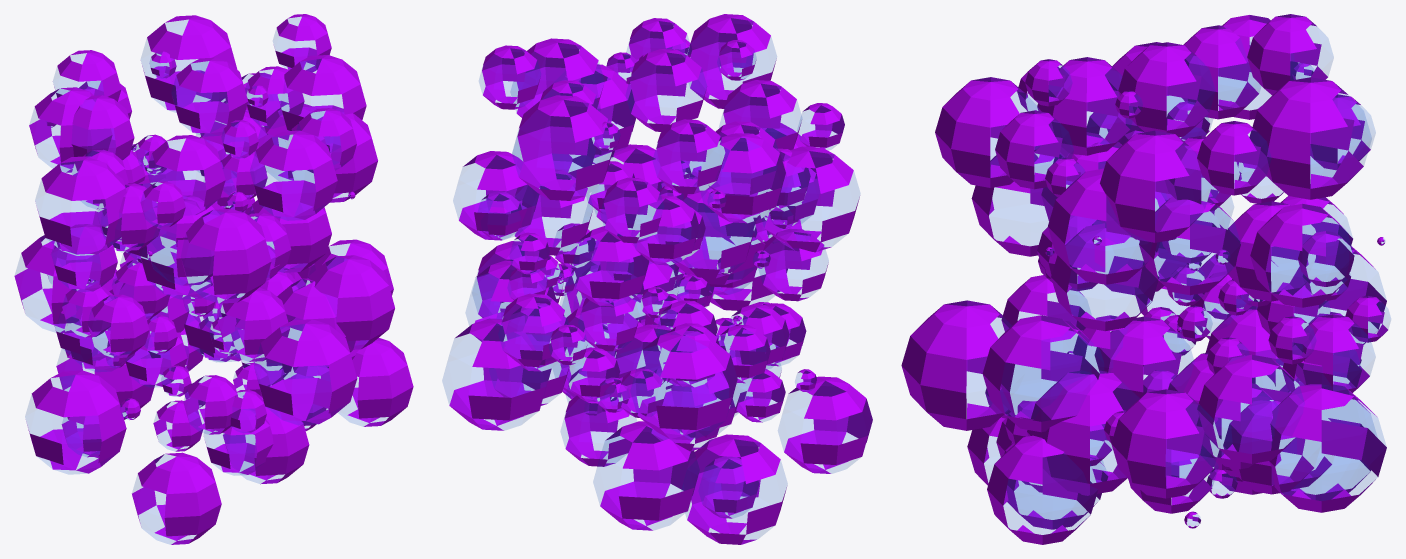
Rendered from fog.glb.
The picture shows the model from 3 angles, left to right: view 1: azimuth 30°, elevation 25°; view 2: azimuth 150°, elevation 25°; view 3: azimuth 270°, elevation 25°; orthographic projection. The views are drawn at different scales.
Parts seen in each view (by area): view 1: Fog control; view 2: Fog control; view 3: Fog control.
Boxes of the visible parts, x1,y1,x2,y2 form: Fog control: (14,14,413,544); Fog control: (442,14,872,544); Fog control: (901,14,1390,544).
Bounding box in the file's own units: 22.72 × 25.48 × 22.36.
